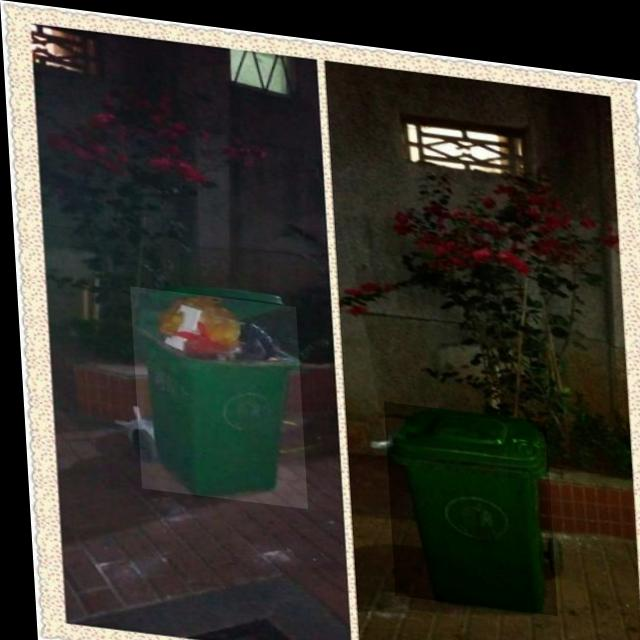garbage_bin: (380, 392, 550, 602)
overflow: (127, 283, 302, 502)
